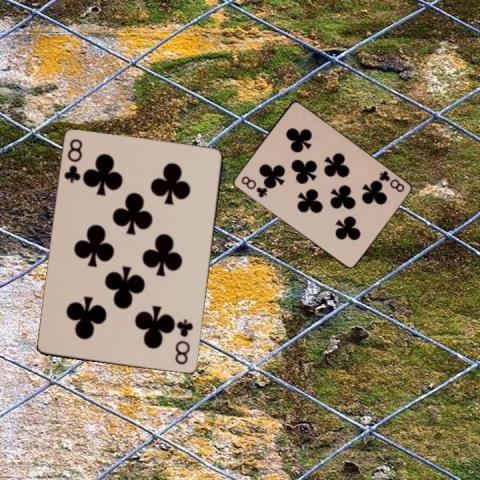8c: (172, 317, 195, 366), (61, 136, 84, 185), (238, 173, 268, 199), (376, 168, 406, 193)
